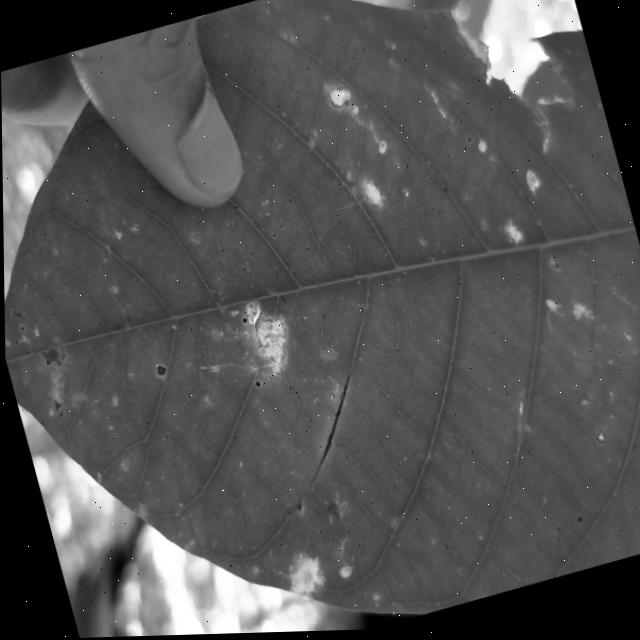Colletotrichum: (253, 381, 259, 388), (240, 318, 245, 324), (271, 234, 275, 238)
Corynespora: (297, 373, 368, 467), (317, 445, 320, 448), (312, 309, 314, 311)
